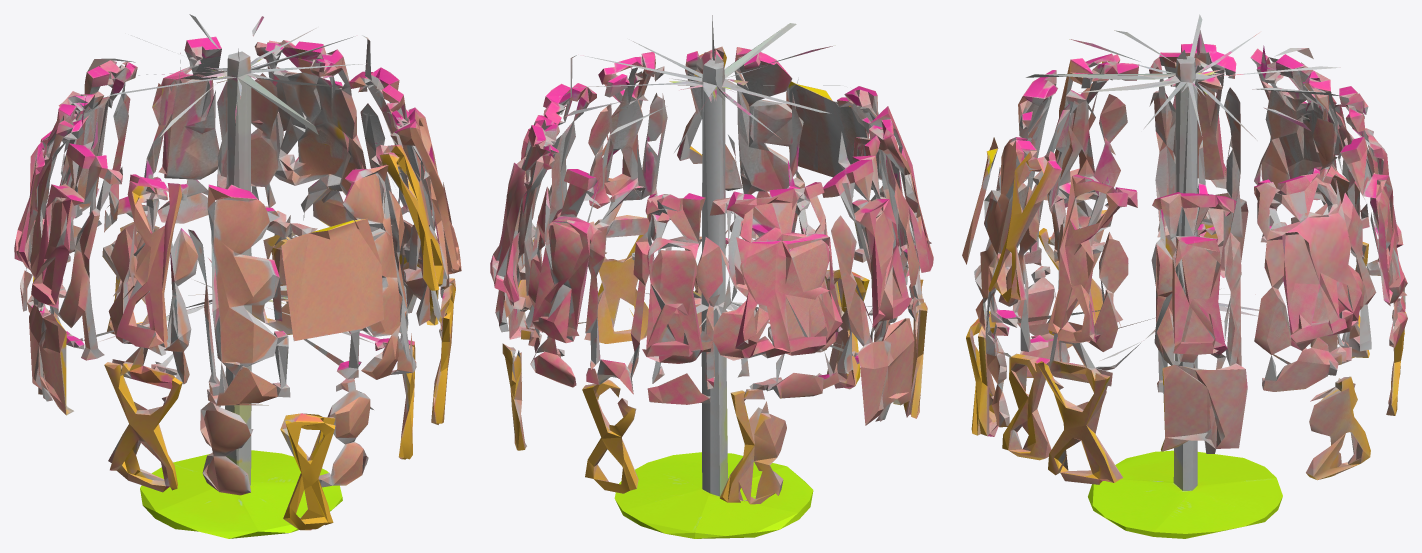
3 renders of one model, left to right at view 1: azimuth 30°, elevation 25°; view 2: azimuth 150°, elevation 25°; view 3: azimuth 270°, elevation 25°, orthographic.
Bounding box in the file's own units: 1.73 × 1.92 × 1.73.
Materials: 1 (1 with a texture image).
